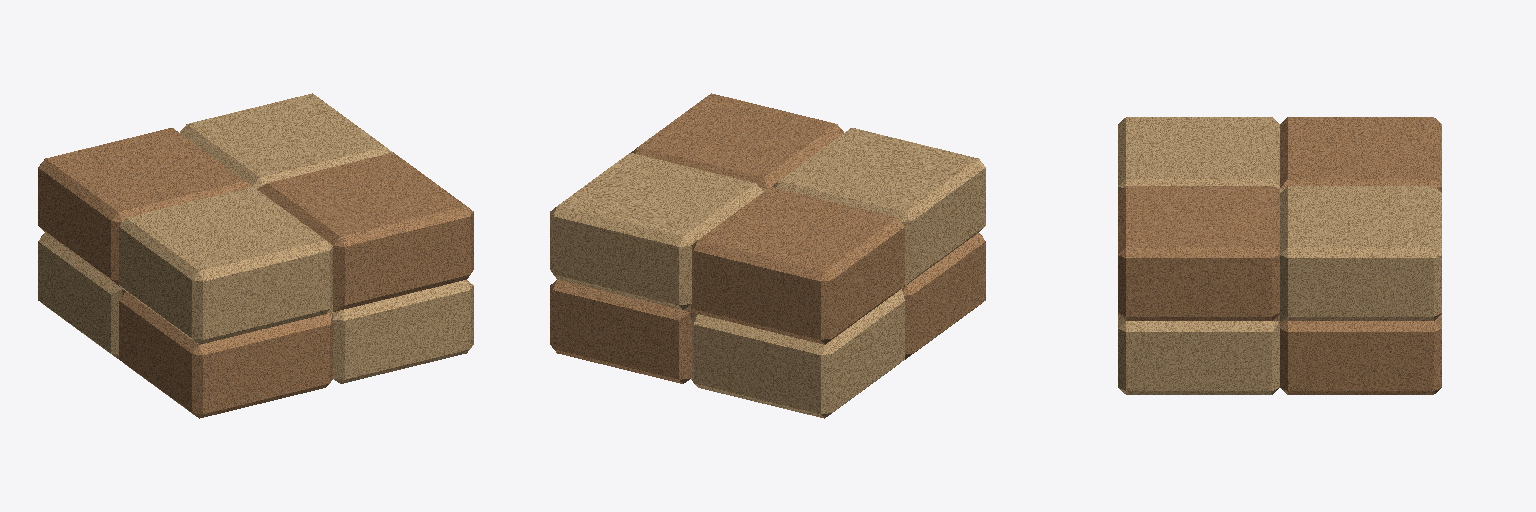
3 views of the same model, side by side, from view 1: azimuth 30°, elevation 25°; view 2: azimuth 150°, elevation 25°; view 3: azimuth 270°, elevation 25° (orthographic).
Visible parts, largest first — view 1: Cube_Cube.031; view 2: Cube_Cube.031; view 3: Cube_Cube.031.
Boxes of the visible parts, x1,y1,x2,y2 form: Cube_Cube.031: [38, 93, 473, 418]; Cube_Cube.031: [550, 93, 985, 418]; Cube_Cube.031: [1118, 117, 1441, 394].
Bounding box in the file's own units: 9.99 × 5 × 9.96.
Materials: 1 (1 with a texture image).